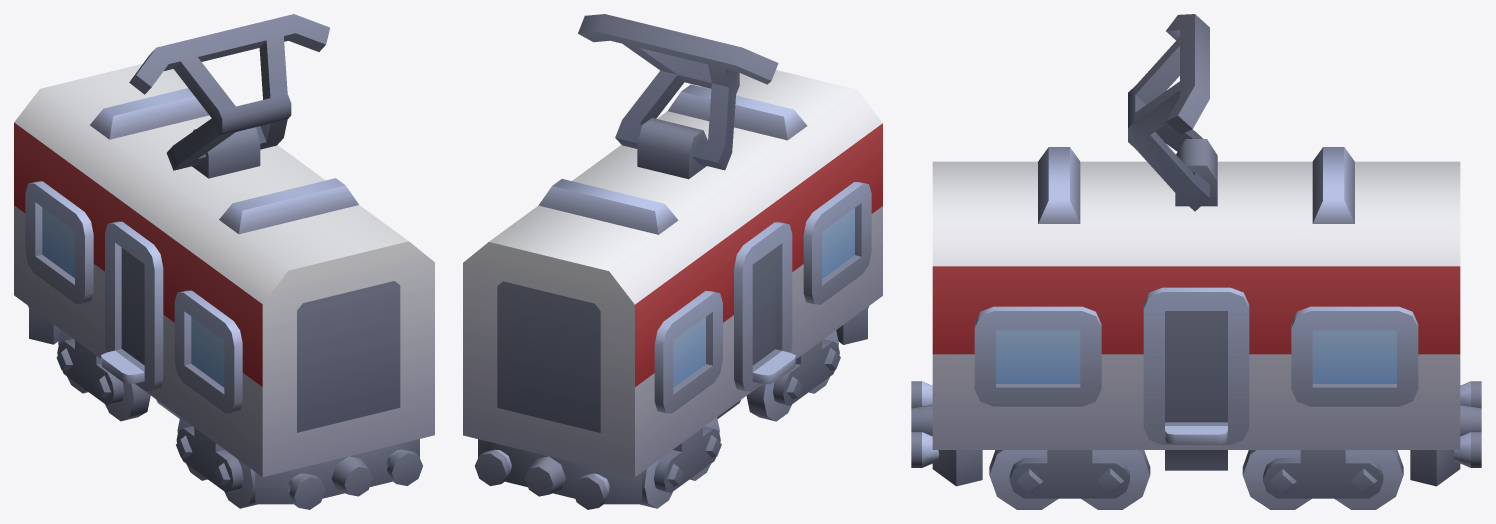
The model's file is train-cityB.glb.
The picture shows the model from 3 angles, left to right: view 1: azimuth 30°, elevation 25°; view 2: azimuth 150°, elevation 25°; view 3: azimuth 270°, elevation 25°; orthographic projection. The views are drawn at different scales.
Visible parts, largest first — view 1: train-electric-city-b; view 2: train-electric-city-b; view 3: train-electric-city-b.
Part boxes in pixels (x1,y1,x2,y2): train-electric-city-b: [14, 14, 434, 509]; train-electric-city-b: [463, 14, 882, 509]; train-electric-city-b: [911, 14, 1481, 509].
Bounding box in the file's own units: 1.3 × 2.22 × 2.7.
1 material, 1 textured.
